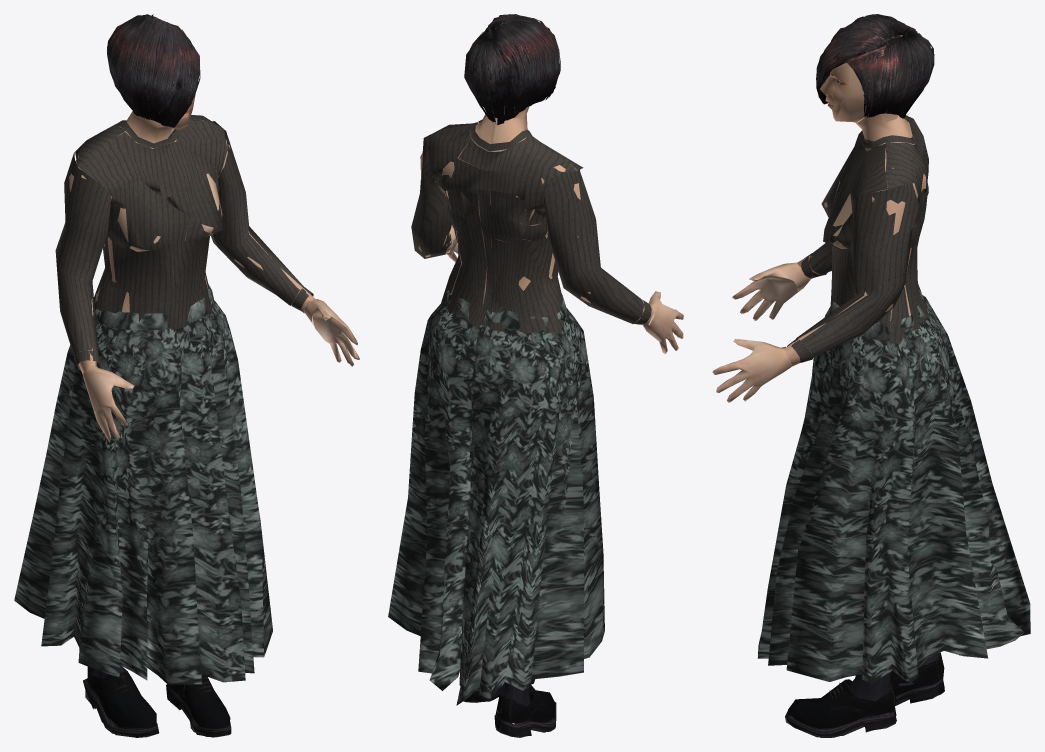
3 views of the same model, side by side, from view 1: azimuth 30°, elevation 25°; view 2: azimuth 150°, elevation 25°; view 3: azimuth 270°, elevation 25° (orthographic).
Visible parts, largest first — view 1: Modell; view 2: Modell; view 3: Modell.
Part boxes in pixels (left/top/right/bottom): Modell: left=14, top=14, right=359, bottom=737; Modell: left=388, top=14, right=683, bottom=737; Modell: left=712, top=14, right=1030, bottom=737.
Size of the model in its own units: 0.6279 by 1.79 by 0.7385.
7 materials, 7 textured.
